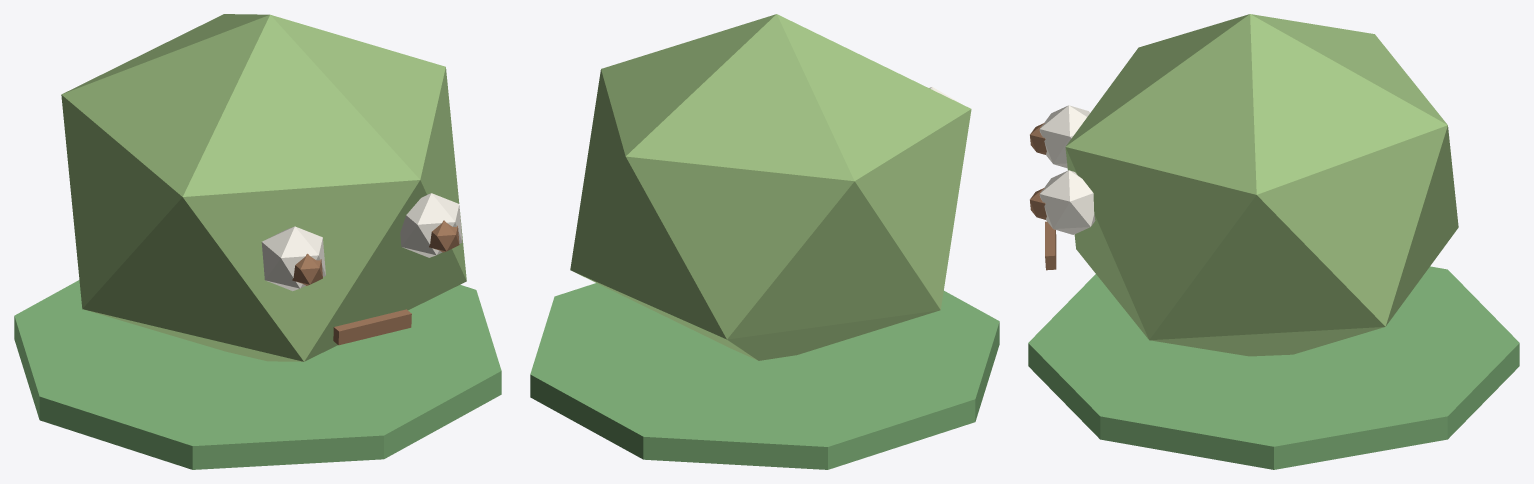
Rendered from npcpose_slime_idle_03.glb.
The picture shows the model from 3 angles, left to right: view 1: azimuth 30°, elevation 25°; view 2: azimuth 150°, elevation 25°; view 3: azimuth 270°, elevation 25°; orthographic projection. The views are drawn at different scales.
Visible parts, largest first — view 1: npcpose; view 2: npcpose; view 3: npcpose.
Part boxes in pixels (x1,y1,x2,y2): npcpose: (14, 14, 501, 469); npcpose: (530, 14, 999, 469); npcpose: (1028, 14, 1519, 469).
Bounding box in the file's own units: 0.96 × 0.7588 × 0.96.
